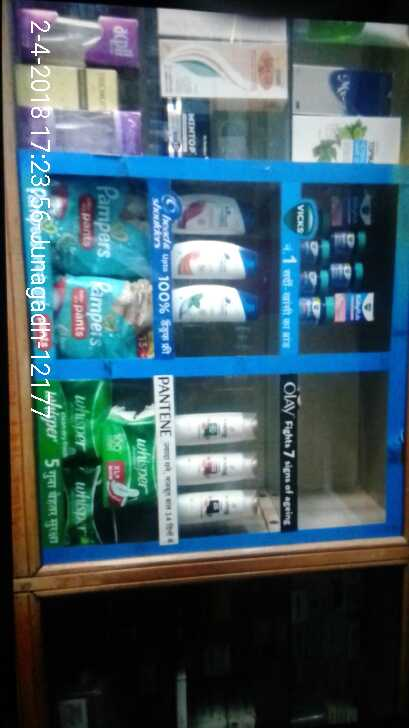vicks: (299, 190, 392, 324)
